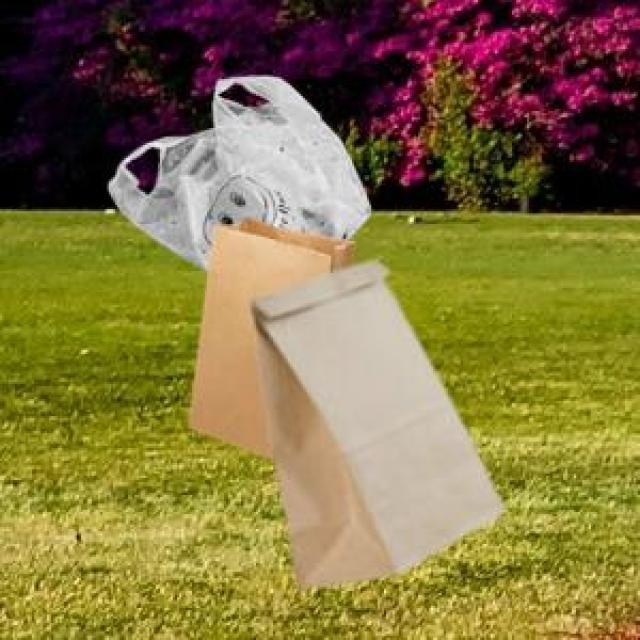paper: (248, 258, 499, 585), (186, 213, 350, 454)
